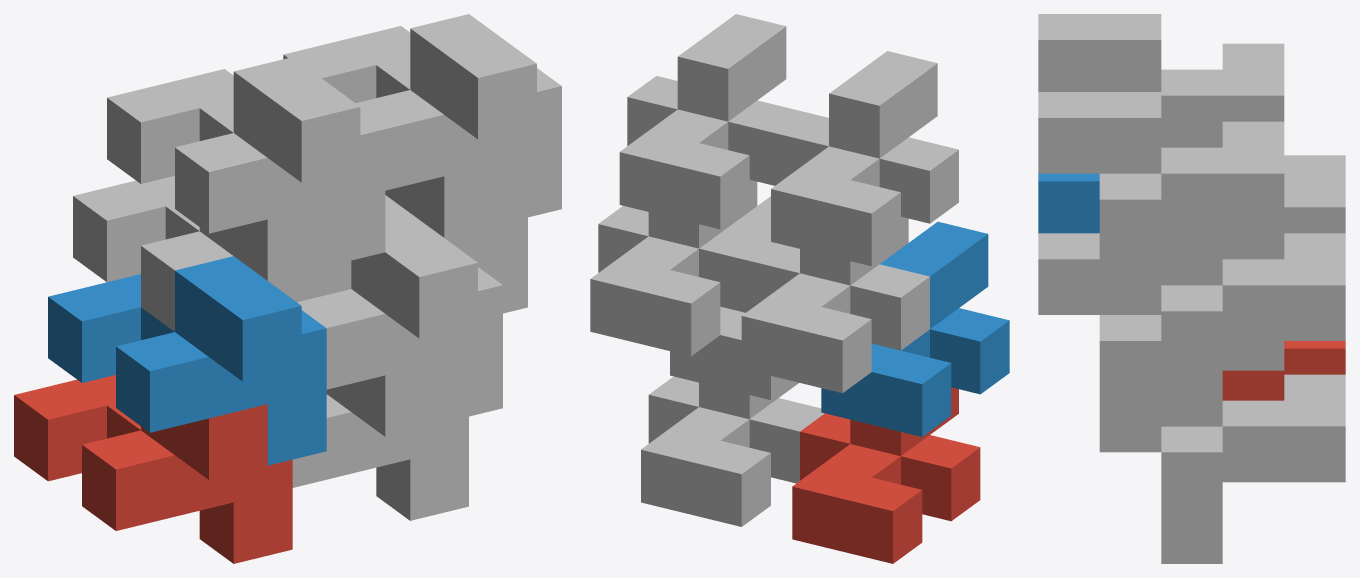
File: tiling.obj
The picture shows the model from 3 angles, left to right: view 1: azimuth 30°, elevation 25°; view 2: azimuth 150°, elevation 25°; view 3: azimuth 270°, elevation 25°; orthographic projection. The views are drawn at different scales.
Visible parts, largest first — view 1: copy_1_domain_4, copy_1_domain_2, copy_1_domain_8, copy_1_domain_1, copy_1_domain_6, copy_1_domain_3, copy_1_domain_5, copy_1_domain_7; view 2: copy_1_domain_4, copy_1_domain_8, copy_1_domain_3, copy_1_domain_1, copy_1_domain_2, copy_1_domain_7, copy_1_domain_5, copy_1_domain_6; view 3: copy_1_domain_8, copy_1_domain_7, copy_1_domain_5, copy_1_domain_4, copy_1_domain_6, copy_1_domain_3, copy_1_domain_1, copy_1_domain_2.
Boxes of the visible parts, bbox=[...] form: copy_1_domain_4: bbox=[107, 57, 385, 266]; copy_1_domain_2: bbox=[48, 256, 326, 465]; copy_1_domain_8: bbox=[283, 14, 561, 223]; copy_1_domain_1: bbox=[14, 375, 292, 563]; copy_1_domain_6: bbox=[297, 213, 502, 422]; copy_1_domain_3: bbox=[73, 176, 351, 331]; copy_1_domain_5: bbox=[292, 361, 468, 520]; copy_1_domain_7: bbox=[385, 162, 527, 313]; copy_1_domain_4: bbox=[771, 51, 958, 266]; copy_1_domain_8: bbox=[619, 14, 807, 229]; copy_1_domain_3: bbox=[741, 216, 929, 393]; copy_1_domain_1: bbox=[792, 387, 980, 563]; copy_1_domain_2: bbox=[821, 221, 1009, 436]; copy_1_domain_7: bbox=[590, 180, 773, 356]; copy_1_domain_5: bbox=[641, 376, 824, 526]; copy_1_domain_6: bbox=[670, 196, 795, 399]; copy_1_domain_8: bbox=[1038, 92, 1284, 311]; copy_1_domain_7: bbox=[1161, 229, 1345, 422]; copy_1_domain_5: bbox=[1161, 374, 1345, 563]; copy_1_domain_4: bbox=[1038, 14, 1284, 147]; copy_1_domain_6: bbox=[1038, 233, 1284, 452]; copy_1_domain_3: bbox=[1222, 155, 1345, 259]; copy_1_domain_1: bbox=[1222, 341, 1345, 400]; copy_1_domain_2: bbox=[1038, 173, 1099, 233].
Bounding box in the file's own units: 7 × 8 × 5.
